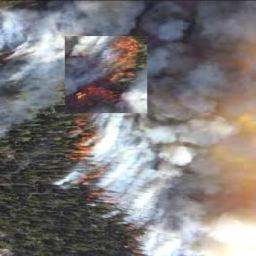Heavy smoke: (143, 0, 256, 247), (4, 4, 62, 119), (105, 118, 142, 212)
Medium fire: (75, 114, 100, 198), (112, 35, 138, 86), (76, 81, 124, 100)
